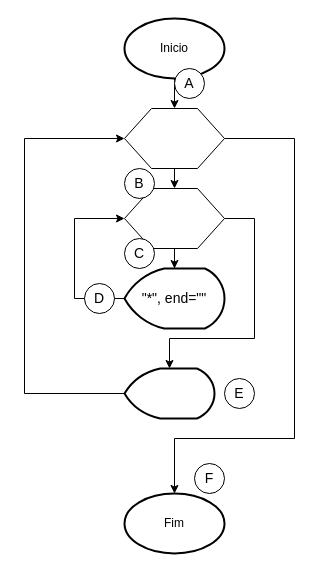
Image size: 320x571. Some labels were removed from this diagram. The box of each missing label's shape, as (x1, y1, x2, y2) in pixels:
Para x de 0 a 4: (124, 108, 224, 168)
Para y de 0 a 5: (124, 188, 224, 248)
